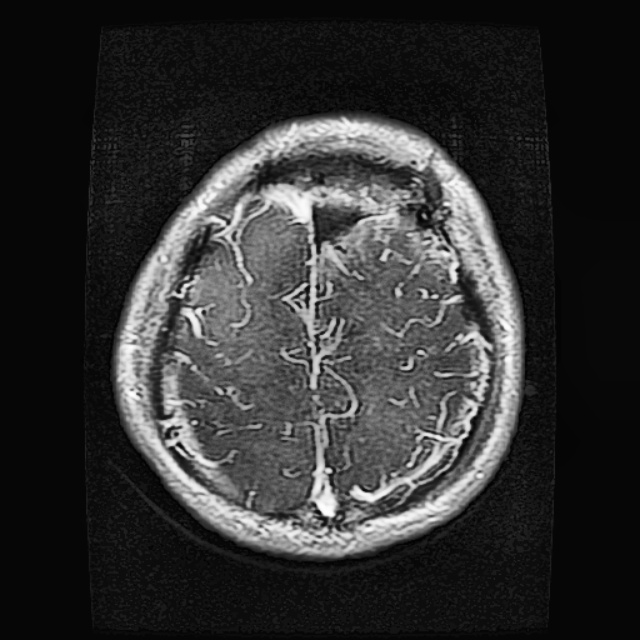Glioma: (252, 148, 442, 244)
